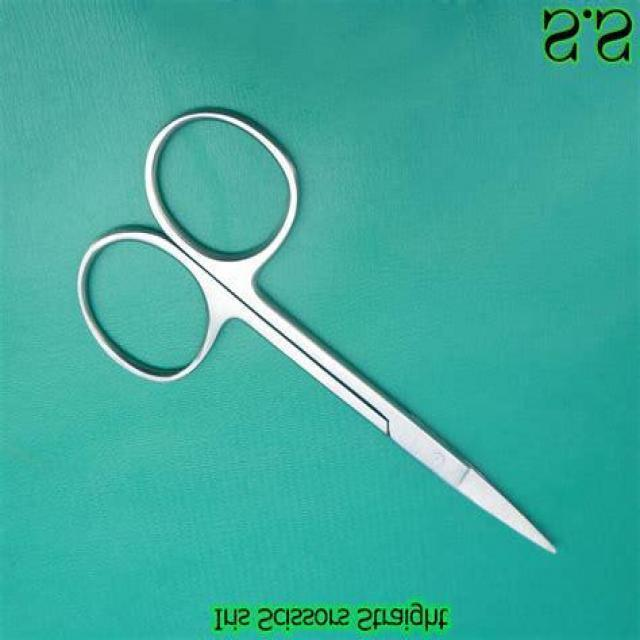Potts: (73, 101, 562, 560)
